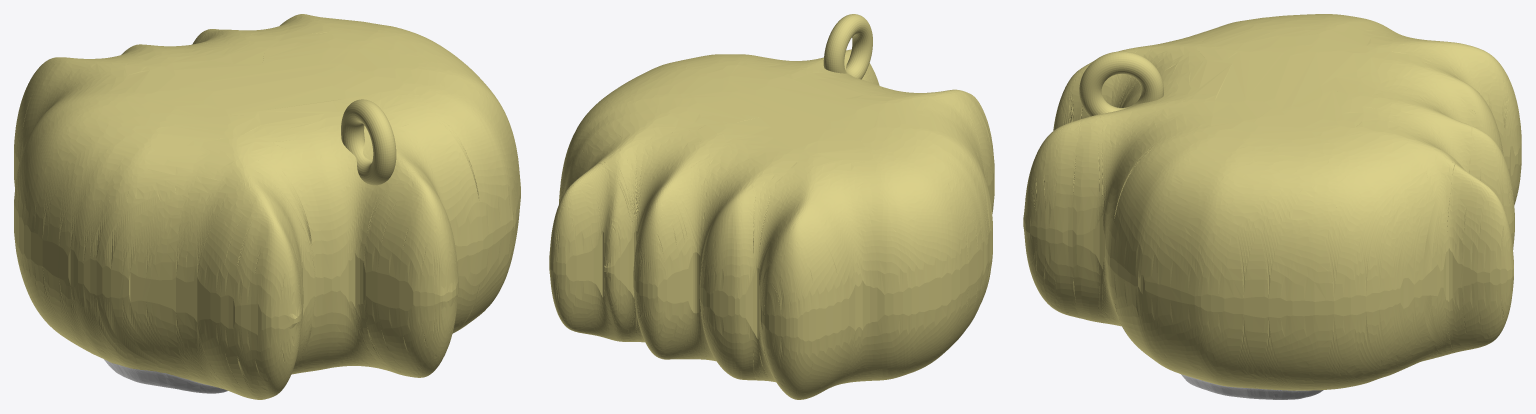
Rendered from previous-keychain-v3.glb.
3 views of the same model, side by side, from view 1: azimuth 30°, elevation 25°; view 2: azimuth 150°, elevation 25°; view 3: azimuth 270°, elevation 25° (orthographic). The views are drawn at different scales.
Visible parts, largest first — view 1: yellow, white; view 2: yellow; view 3: yellow, white.
Boxes of the visible parts, x1=… form: yellow: x1=14, y1=14, x2=520, y2=399; white: x1=104, y1=359, x2=227, y2=393; yellow: x1=549, y1=14, x2=994, y2=399; yellow: x1=1023, y1=14, x2=1521, y2=390; white: x1=1181, y1=374, x2=1323, y2=399.
Size of the model in its own units: 39.22 by 25.31 by 40.
